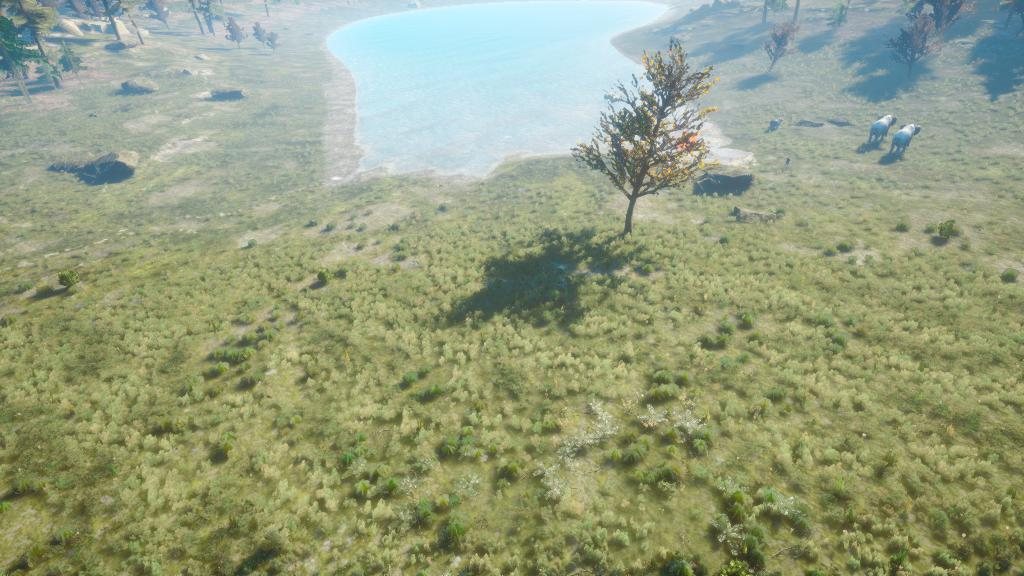elephant: (889, 108, 924, 175), (866, 103, 895, 153)
